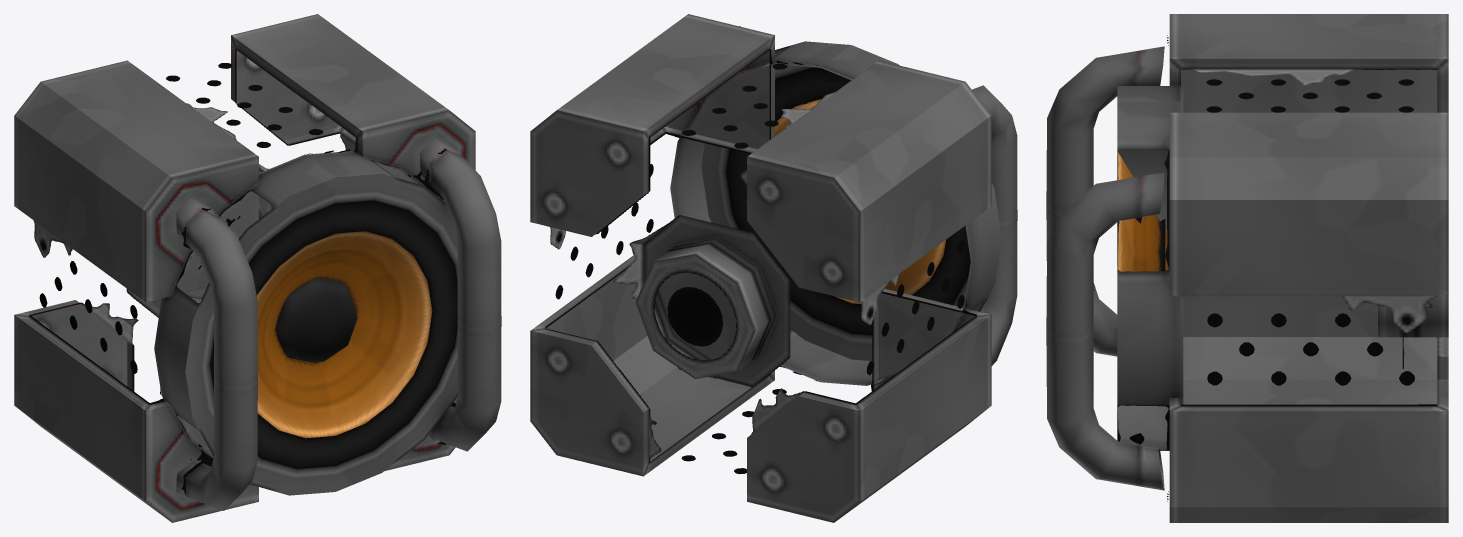
File: obj_interactive_soundcube_off.fbx
The picture shows the model from 3 angles, left to right: view 1: azimuth 30°, elevation 25°; view 2: azimuth 150°, elevation 25°; view 3: azimuth 270°, elevation 25°; orthographic projection. The views are drawn at different scales.
Parts seen in each view (by area): view 1: LP_off; view 2: LP_off; view 3: LP_off.
Boxes of the visible parts, box(x1,y1,x2,y2) form: LP_off: box(14, 14, 501, 522); LP_off: box(530, 14, 1017, 522); LP_off: box(1046, 14, 1448, 522).
Bounding box in the file's own units: 0.9985 × 0.9985 × 0.9956.
